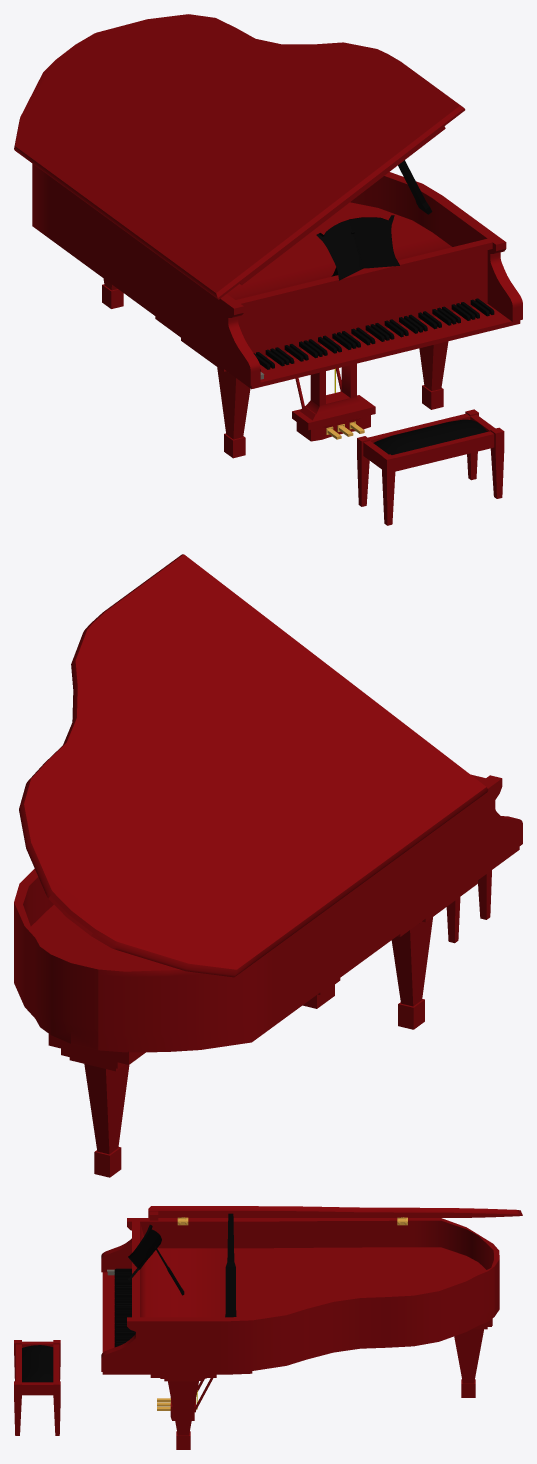
The model's file is czerwony-polysk.glb.
3 views of the same model, one above another, from view 1: azimuth 30°, elevation 25°; view 2: azimuth 150°, elevation 25°; view 3: azimuth 270°, elevation 25° (orthographic). The views are drawn at different scales.
Visible parts, largest first — view 1: Plane.002, Plane, Plane.004, Cube, Plane.006, Plane.005; view 2: Plane.002, Plane, Plane.004; view 3: Plane, Plane.002, Plane.004, Cube, Plane.005, Cube.001, Plane.006.
Boxes of the visible parts, box(x1,y1,x2,y2) form: Plane.002: box(14, 14, 465, 299); Plane: box(32, 163, 522, 458); Plane.004: box(357, 409, 504, 525); Cube: box(253, 298, 494, 371); Plane.006: box(316, 215, 399, 280); Plane.005: box(373, 419, 487, 454); Plane.002: box(19, 554, 488, 977); Plane: box(14, 774, 522, 1177); Plane.004: box(446, 870, 491, 943); Plane: box(101, 1218, 499, 1449); Plane.002: box(148, 1206, 522, 1220); Plane.004: box(14, 1340, 60, 1435); Cube: box(114, 1268, 135, 1347); Plane.005: box(22, 1345, 53, 1382); Cube.001: box(225, 1213, 236, 1317); Plane.006: box(128, 1224, 161, 1280).
Bounding box in the file's own units: 5.75 × 6.34 × 11.85.
